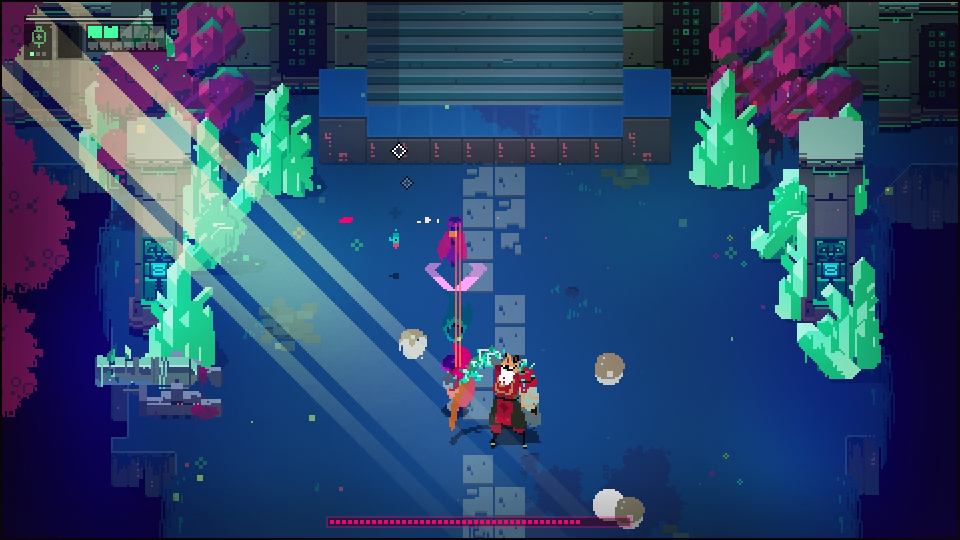hanged_man: (446, 349, 544, 458)
